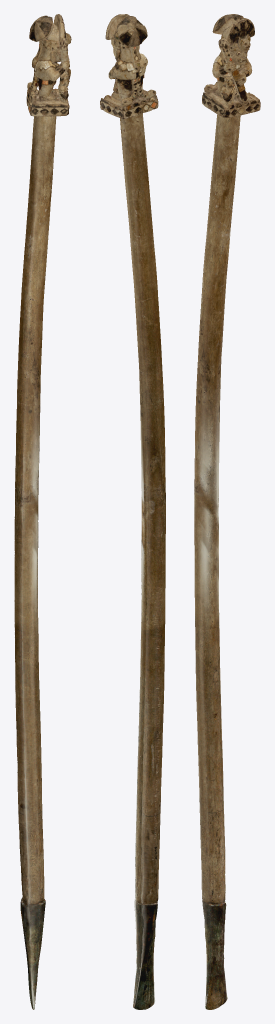
Rendered from baston_mochica_ar.glb.
The picture shows the model from 3 angles, left to right: view 1: azimuth 30°, elevation 25°; view 2: azimuth 150°, elevation 25°; view 3: azimuth 330°, elevation 25°; orthographic projection.
Visible parts, largest first — view 1: Object_2, Object_3; view 2: Object_2, Object_3; view 3: Object_2, Object_3.
Boxes of the visible parts, x1,y1,x2,y2 form: Object_2: [14, 14, 71, 1009]; Object_3: [17, 109, 63, 413]; Object_2: [100, 14, 165, 1009]; Object_3: [120, 105, 163, 414]; Object_2: [194, 14, 260, 1009]; Object_3: [196, 101, 259, 407].
Size of the model in its own units: 104 by 1732 by 86.53.
Materials: 1 (1 with a texture image).
